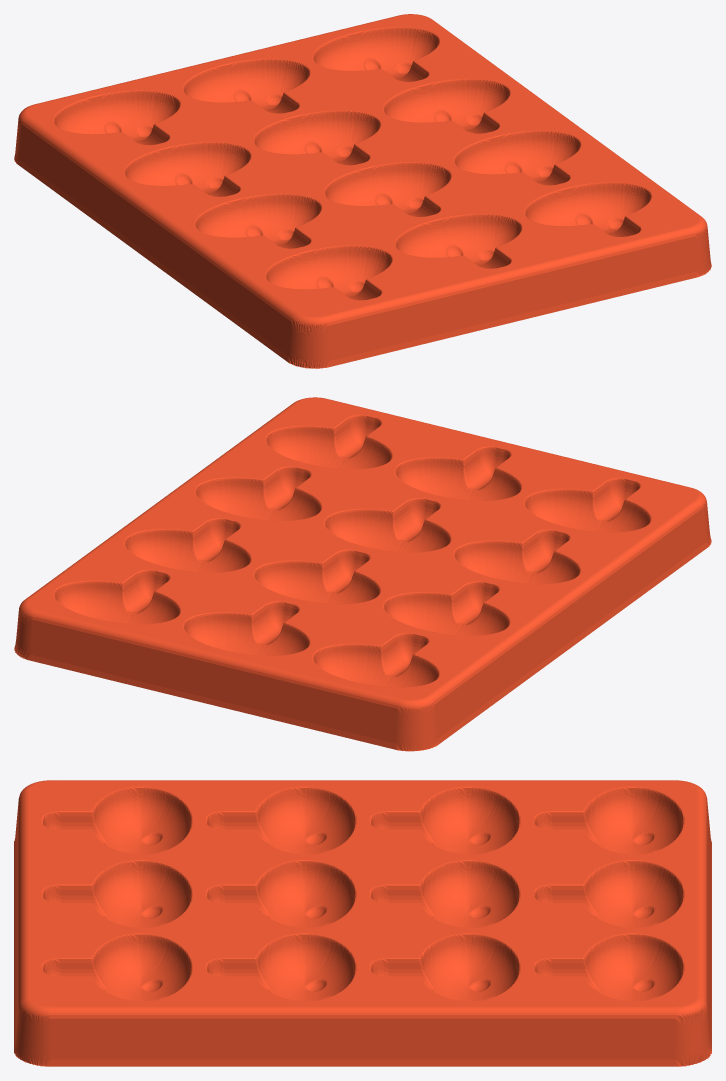
File: mold.glb
3 views of the same model, one above another, from view 1: azimuth 30°, elevation 25°; view 2: azimuth 150°, elevation 25°; view 3: azimuth 270°, elevation 25° (orthographic). The views are drawn at different scales.
Parts seen in each view (by area): view 1: geometry_0; view 2: geometry_0; view 3: geometry_0.
Part boxes in pixels (box(x1,y1,x2,y2)): geometry_0: box(14, 14, 711, 368); geometry_0: box(14, 397, 711, 751); geometry_0: box(14, 780, 711, 1066).
Bounding box in the file's own units: 0.1374 × 0.0145 × 0.1703.
